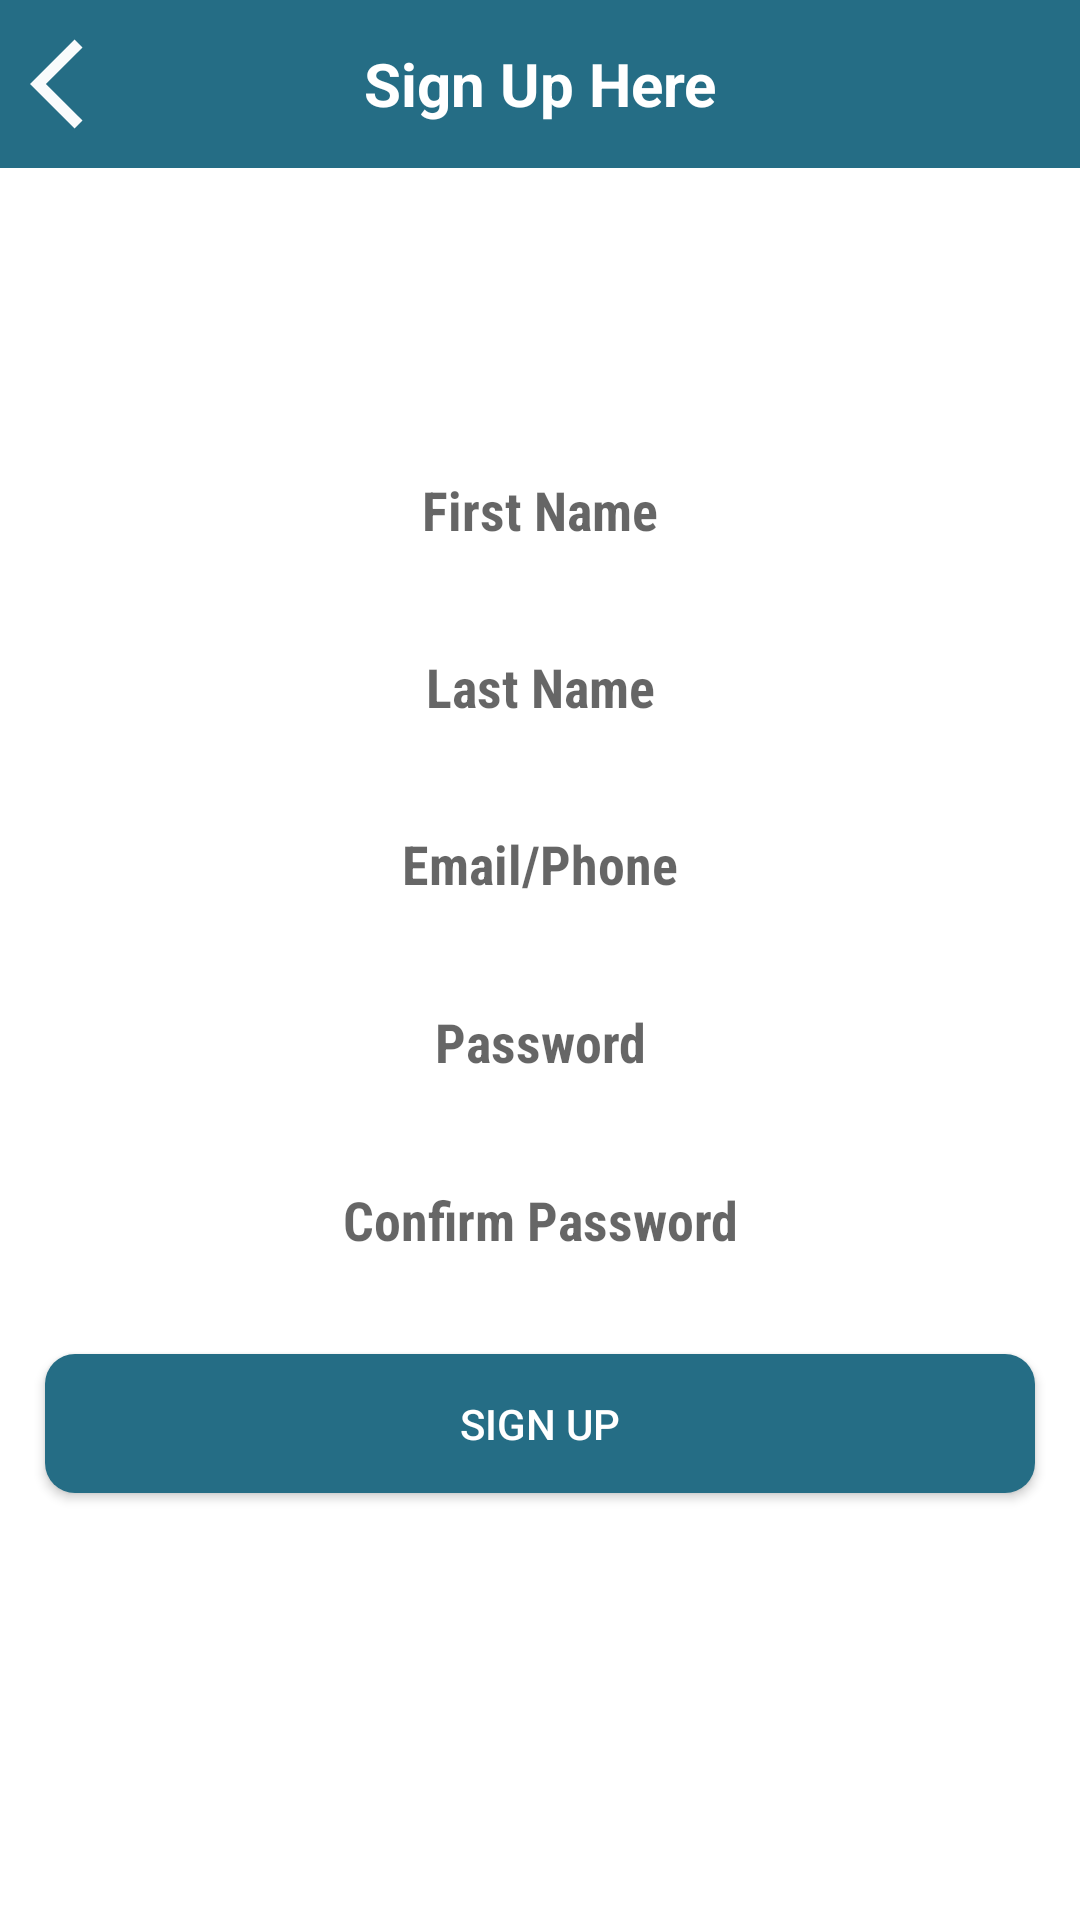

Icons on this 1080 × 1920 Android screen, each with its box as region(x1, y1, x2, y2):
back arrow: region(30, 39, 83, 129)
